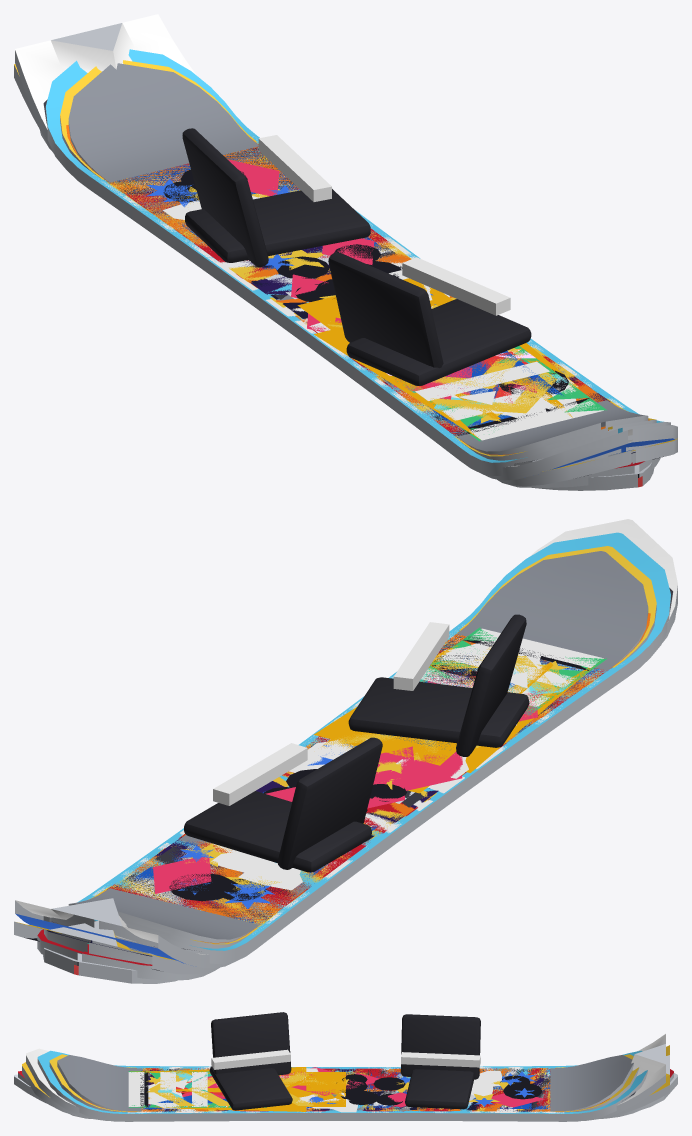
Rendered from boards.glb.
The picture shows the model from 3 angles, top to bottom: view 1: azimuth 30°, elevation 25°; view 2: azimuth 150°, elevation 25°; view 3: azimuth 270°, elevation 25°; orthographic projection. The views are drawn at different scales.
Visible parts, largest first — view 1: board_starter, board_rail, board_float, board_powder, board_twin, board_rocket, board_legend, board_carver, board_alpine, board_grip, board_aurora, board_comet; view 2: board_starter, board_rail, board_float, board_powder, board_rocket, board_twin, board_legend, board_comet, board_grip, board_carver, board_alpine, board_aurora; view 3: board_starter, board_float, board_rail, board_powder, board_rocket, board_twin, board_legend, board_carver, board_aurora, board_grip, board_alpine, board_comet.
Part boxes in pixels (box(x1,y1,x2,y2)): board_starter: box(66, 125, 649, 455); board_rail: box(68, 63, 648, 454); board_float: box(45, 49, 670, 476); board_powder: box(15, 14, 677, 480); board_twin: box(60, 60, 656, 460); board_rocket: box(40, 130, 660, 487); board_legend: box(14, 64, 677, 486); board_carver: box(117, 150, 634, 462); board_alpine: box(129, 159, 654, 490); board_grip: box(43, 99, 606, 465); board_aurora: box(104, 151, 662, 466); board_comet: box(125, 148, 636, 465); board_starter: box(99, 613, 650, 943); board_rail: box(68, 551, 648, 942); board_float: box(49, 532, 670, 964); board_powder: box(15, 519, 677, 968); board_rocket: box(37, 637, 609, 980); board_twin: box(88, 546, 656, 948); board_legend: box(14, 599, 677, 974); board_comet: box(44, 637, 578, 964); board_grip: box(43, 588, 673, 953); board_carver: box(53, 655, 599, 955); board_alpine: box(43, 656, 527, 983); board_aurora: box(49, 637, 571, 950); board_starter: box(82, 1012, 609, 1111); board_float: box(37, 1050, 647, 1121); board_rail: box(57, 1055, 633, 1111); board_powder: box(26, 1034, 665, 1120); board_rocket: box(18, 1067, 673, 1118); board_twin: box(49, 1054, 639, 1112); board_legend: box(22, 1045, 669, 1118); board_carver: box(141, 1070, 550, 1109); board_aurora: box(148, 1068, 547, 1111); board_grip: box(55, 1069, 636, 1110); board_alpine: box(14, 1072, 677, 1108); board_comet: box(146, 1069, 544, 1110).
Size of the model in its own units: 0.2919 by 0.1781 by 1.68.
